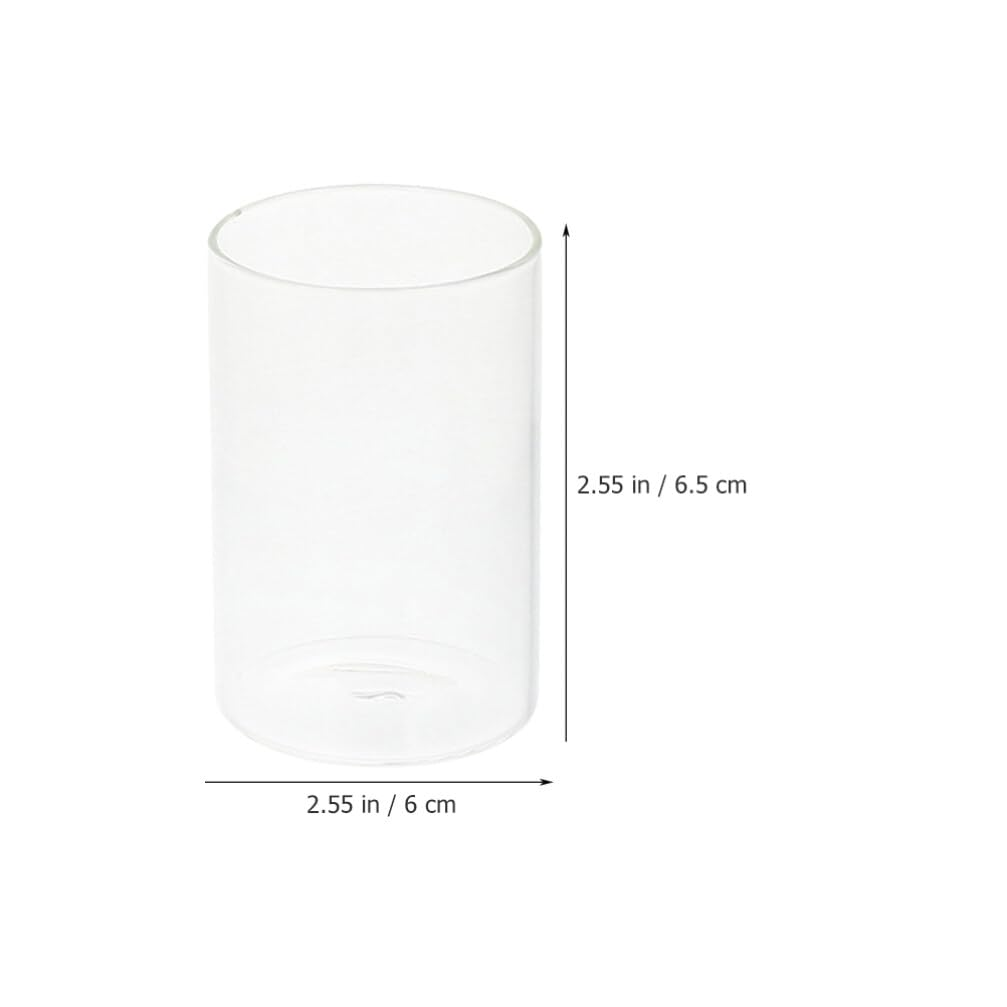/: (662, 475, 666, 497)
2.55: (578, 475, 623, 494), (308, 795, 352, 813)
6.5: (675, 475, 707, 494)
cm: (716, 480, 746, 494)
in: (633, 475, 649, 493)
in/6cm: (362, 794, 455, 817)
